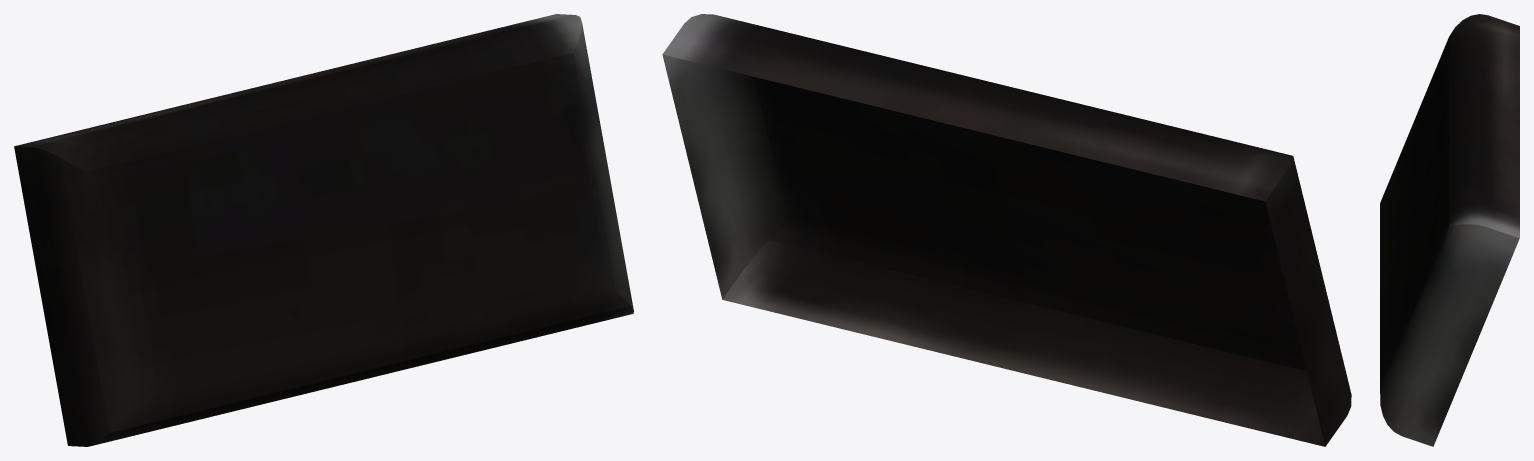
Rendered from link_4__button-5.glb.
3 views of the same model, side by side, from view 1: azimuth 30°, elevation 25°; view 2: azimuth 150°, elevation 25°; view 3: azimuth 270°, elevation 25° (orthographic). The views are drawn at different scales.
Visible parts, largest first — view 1: geometry_0; view 2: geometry_0; view 3: geometry_0.
Part boxes in pixels (x1,y1,x2,y2): geometry_0: (14, 14, 633, 446); geometry_0: (662, 14, 1351, 446); geometry_0: (1380, 14, 1519, 446).
Size of the model in its own units: 0.0354 by 0.0172 by 0.00985.
Materials: 1 (1 with a texture image).
